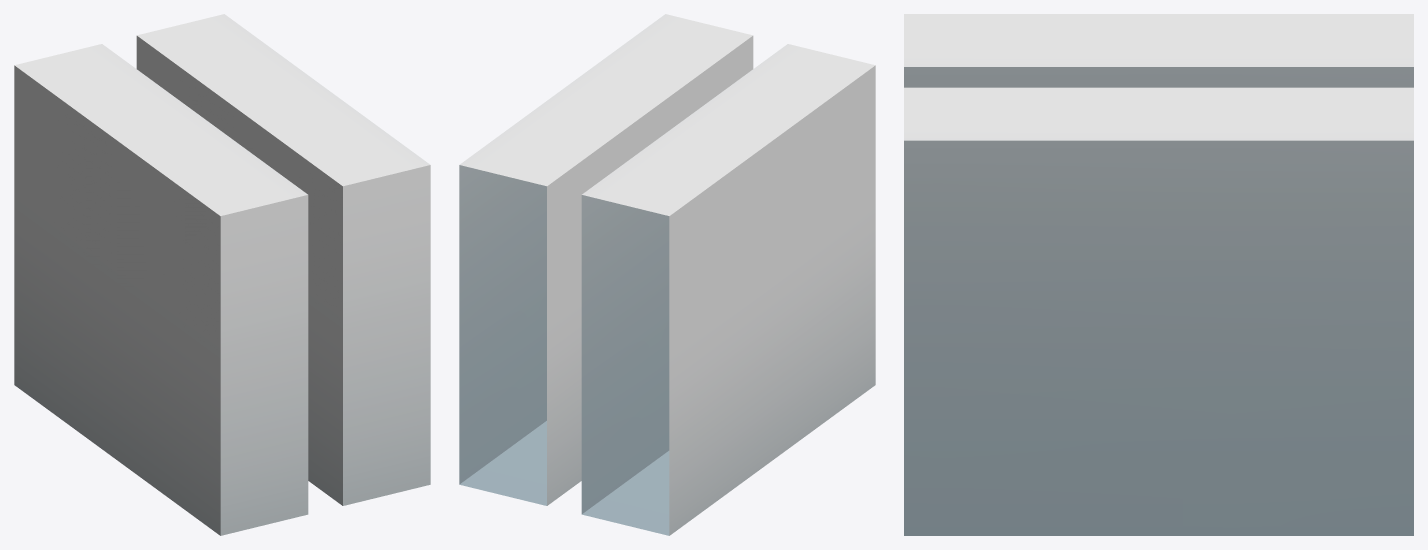
File: Button_Pause.fbx
3 renders of one model, left to right at view 1: azimuth 30°, elevation 25°; view 2: azimuth 150°, elevation 25°; view 3: azimuth 270°, elevation 25°, orthographic. The views are drawn at different scales.
Parts seen in each view (by area): view 1: Button_Pause; view 2: Button_Pause; view 3: Button_Pause.
Boxes of the visible parts, <box> form: Button_Pause: <box>14,14,430,535</box>; Button_Pause: <box>459,14,875,535</box>; Button_Pause: <box>904,14,1413,535</box>.
Bounding box in the file's own units: 0.4987 × 0.7251 × 0.8475.
